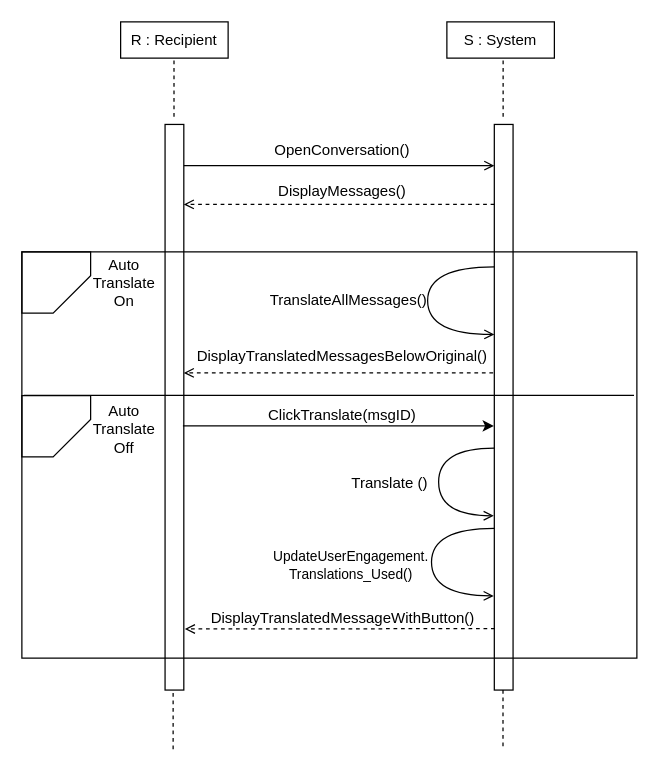
Some shapes in this 659 by 773 pixel diagram are drawn without their labels. Each missing label, with the centre of its shape:
alt: [56,282]
else: [56,425]
